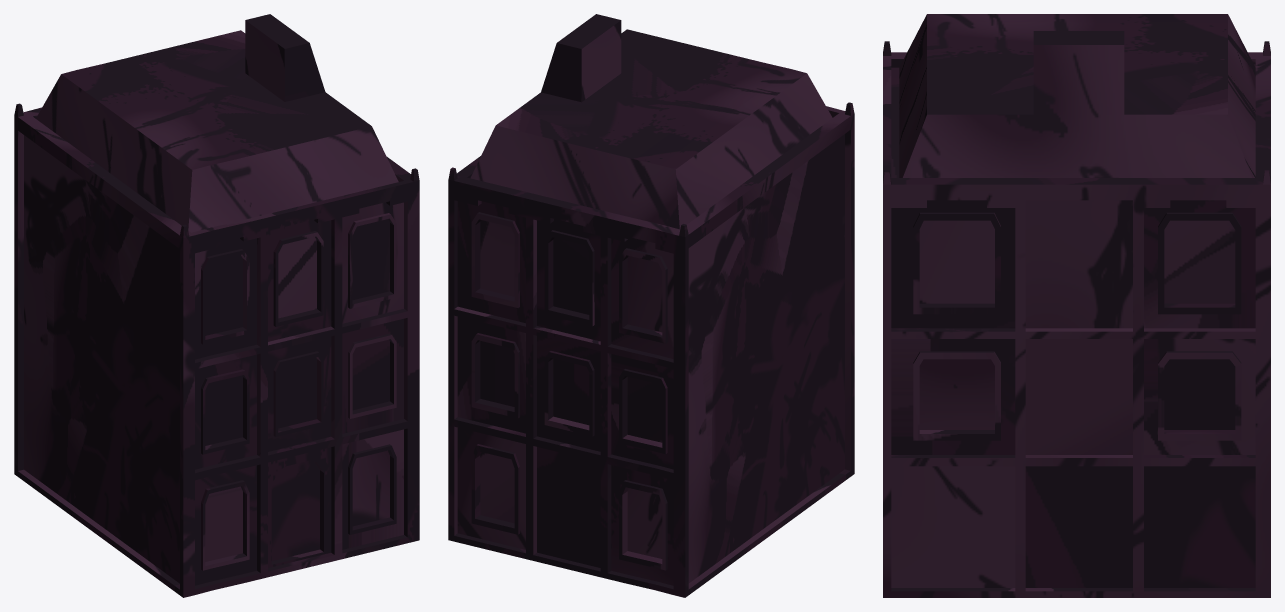
Rendered from house.fbx.
3 renders of one model, left to right at view 1: azimuth 30°, elevation 25°; view 2: azimuth 150°, elevation 25°; view 3: azimuth 270°, elevation 25°, orthographic. The views are drawn at different scales.
Visible parts, largest first — view 1: Cube; view 2: Cube; view 3: Cube.
Part boxes in pixels (x1=…): Cube: x1=14, y1=14, x2=419, y2=597; Cube: x1=448, y1=14, x2=854, y2=597; Cube: x1=883, y1=14, x2=1270, y2=597.
Size of the model in its own units: 842 by 1568 by 1044.
